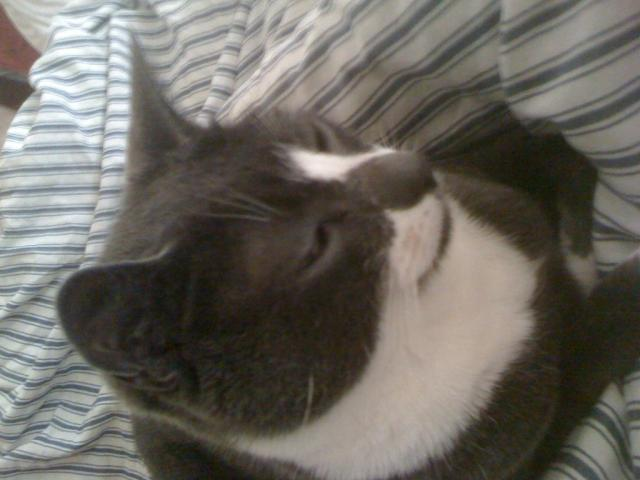Cat: (56, 23, 640, 480)
